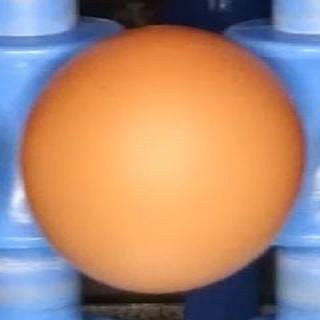Telur: (13, 23, 309, 300)
